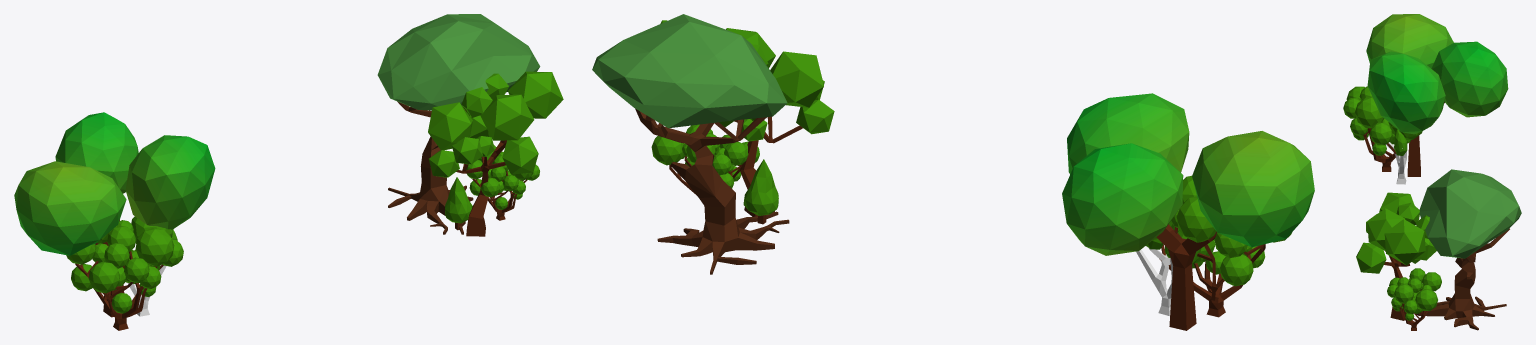
Rendered from asset.glb.
The picture shows the model from 3 angles, left to right: view 1: azimuth 30°, elevation 25°; view 2: azimuth 150°, elevation 25°; view 3: azimuth 270°, elevation 25°; orthographic projection. The views are drawn at different scales.
Parts seen in each view (by area): view 1: treetop.003, treetop, tree crown.002, tree crown.001, trunk and branches, tree crown, trunk and branches.003, trunk and branches.002, treetop.002, trunk and branches.001; view 2: treetop.003, treetop, trunk and branches, tree crown.002, tree crown.001, trunk and branches.004, tree crown, trunk and branches.002, treetop.002, tree, trunk and branches.003; view 3: treetop.003, treetop, tree crown.002, trunk and branches, tree crown.001, tree crown, trunk and branches.004, trunk and branches.002, trunk and branches.003, treetop.001, tree, trunk and branches.001.
Boxes of the visible parts, x1,y1,x2,y2 form: treetop.003: (14, 112, 215, 255); treetop: (377, 14, 540, 110); tree crown.002: (428, 71, 563, 177); tree crown.001: (66, 216, 183, 313); trunk and branches: (388, 101, 473, 234); tree crown: (466, 145, 539, 209); trunk and branches.003: (456, 140, 506, 236); trunk and branches.002: (75, 251, 163, 330); treetop.002: (445, 177, 472, 223); trunk and branches.001: (472, 171, 527, 220); treetop.003: (1062, 93, 1314, 255); treetop: (592, 14, 787, 128); trunk and branches: (635, 108, 789, 274); tree crown.002: (660, 20, 834, 141); tree crown.001: (1153, 175, 1291, 286); trunk and branches.004: (1156, 224, 1216, 330); tree crown: (651, 124, 759, 188); trunk and branches.002: (1159, 227, 1265, 317); treetop.002: (743, 159, 778, 215); tree: (1136, 248, 1172, 315); trunk and branches.003: (734, 116, 802, 216); treetop.003: (1366, 14, 1508, 134); treetop: (1419, 169, 1521, 258); tree crown.002: (1356, 192, 1436, 273); trunk and branches: (1416, 228, 1509, 330); tree crown.001: (1343, 86, 1422, 155); tree crown: (1387, 268, 1441, 320); trunk and branches.004: (1407, 102, 1444, 176); trunk and branches.002: (1363, 128, 1396, 171); trunk and branches.003: (1384, 251, 1409, 320); treetop.001: (1382, 119, 1410, 155); tree: (1386, 142, 1406, 184); trunk and branches.001: (1399, 289, 1427, 330).
Bounding box in the file's own units: 15.95 × 5.04 × 5.5.
Materials: 14 (1 with a texture image).
